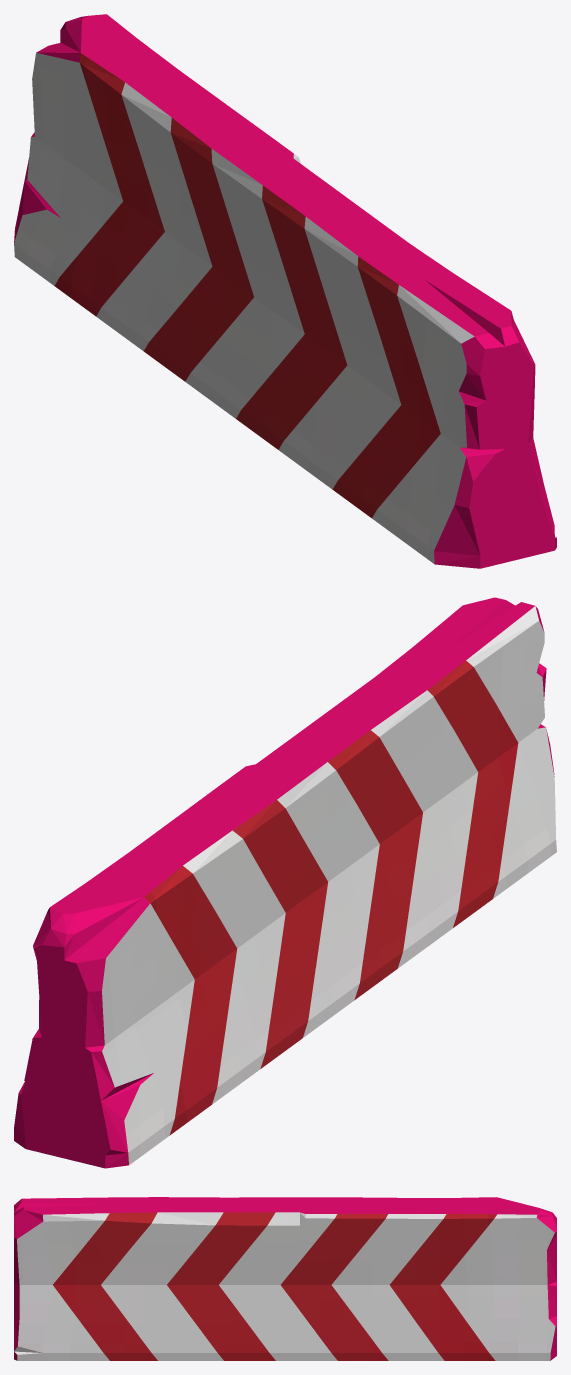
The model's file is Construction_Block02.fbx.
The picture shows the model from 3 angles, top to bottom: view 1: azimuth 30°, elevation 25°; view 2: azimuth 150°, elevation 25°; view 3: azimuth 270°, elevation 25°; orthographic projection. The views are drawn at different scales.
Parts seen in each view (by area): view 1: SM_City_Construction_Block_02.mo; view 2: SM_City_Construction_Block_02.mo; view 3: SM_City_Construction_Block_02.mo.
Boxes of the visible parts, x1,y1,x2,y2 form: SM_City_Construction_Block_02.mo: (14, 14, 556, 568); SM_City_Construction_Block_02.mo: (14, 597, 556, 1168); SM_City_Construction_Block_02.mo: (14, 1197, 556, 1360).
Size of the model in its own units: 44.73 by 89 by 315.
